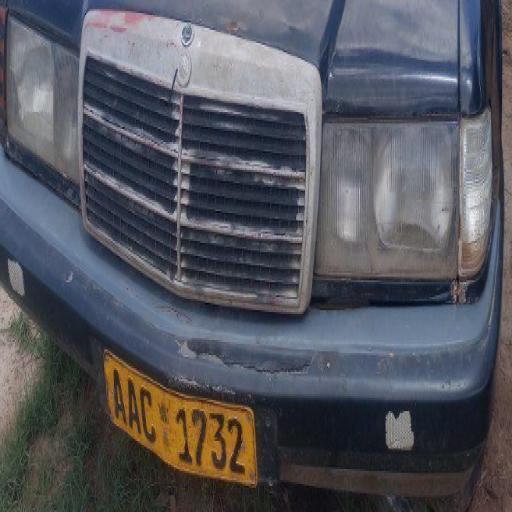number-plates: (104, 344, 252, 486)
